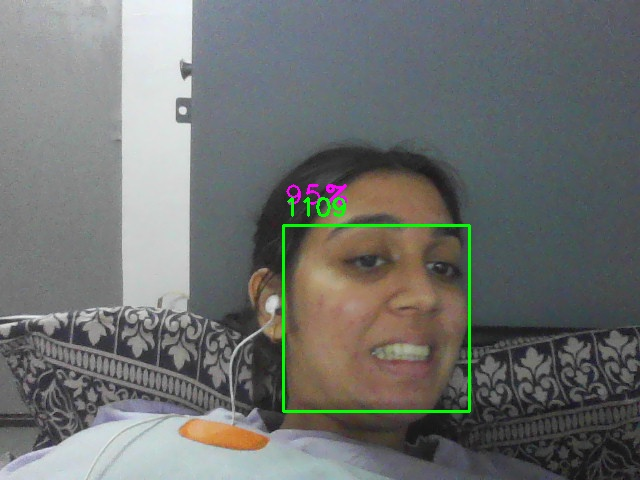real: (283, 225, 470, 412)
